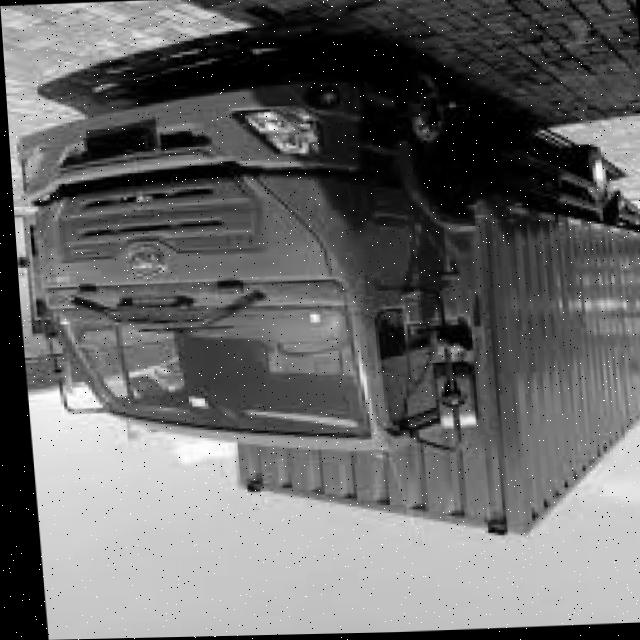truck: (3, 36, 539, 498)
